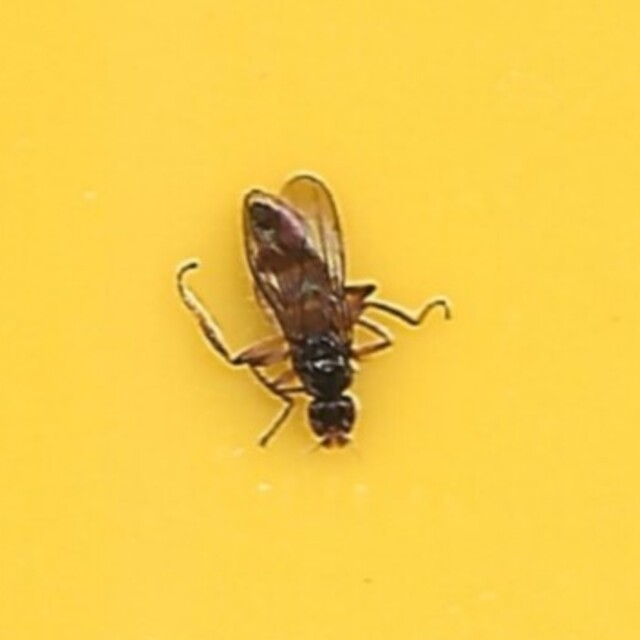Brachycera: (181, 179, 459, 461)
